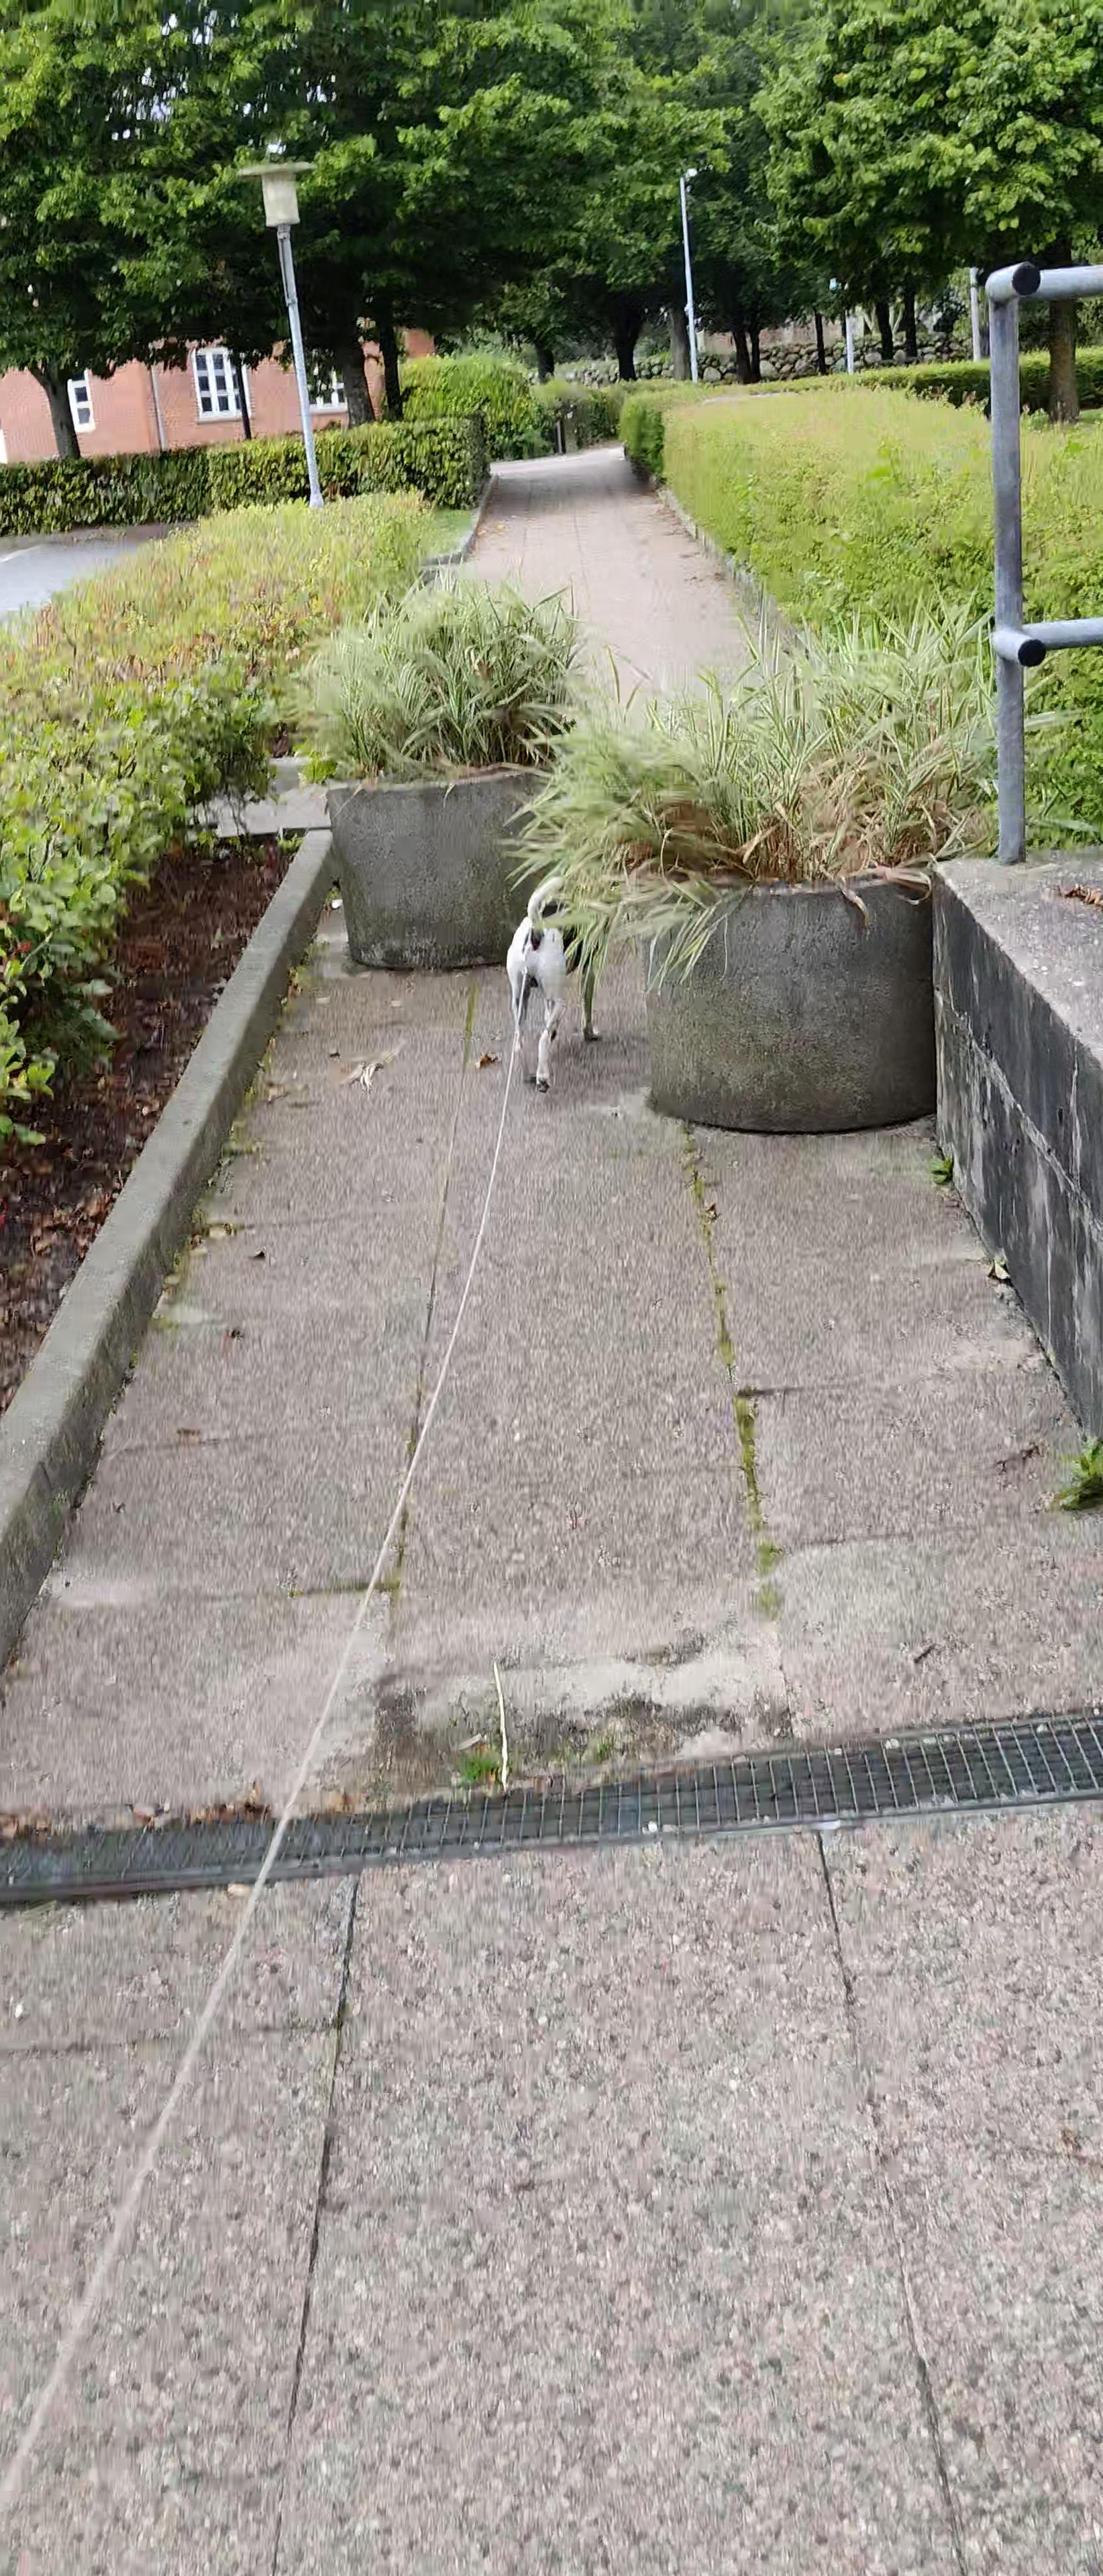Dog: (503, 876, 607, 1096)
